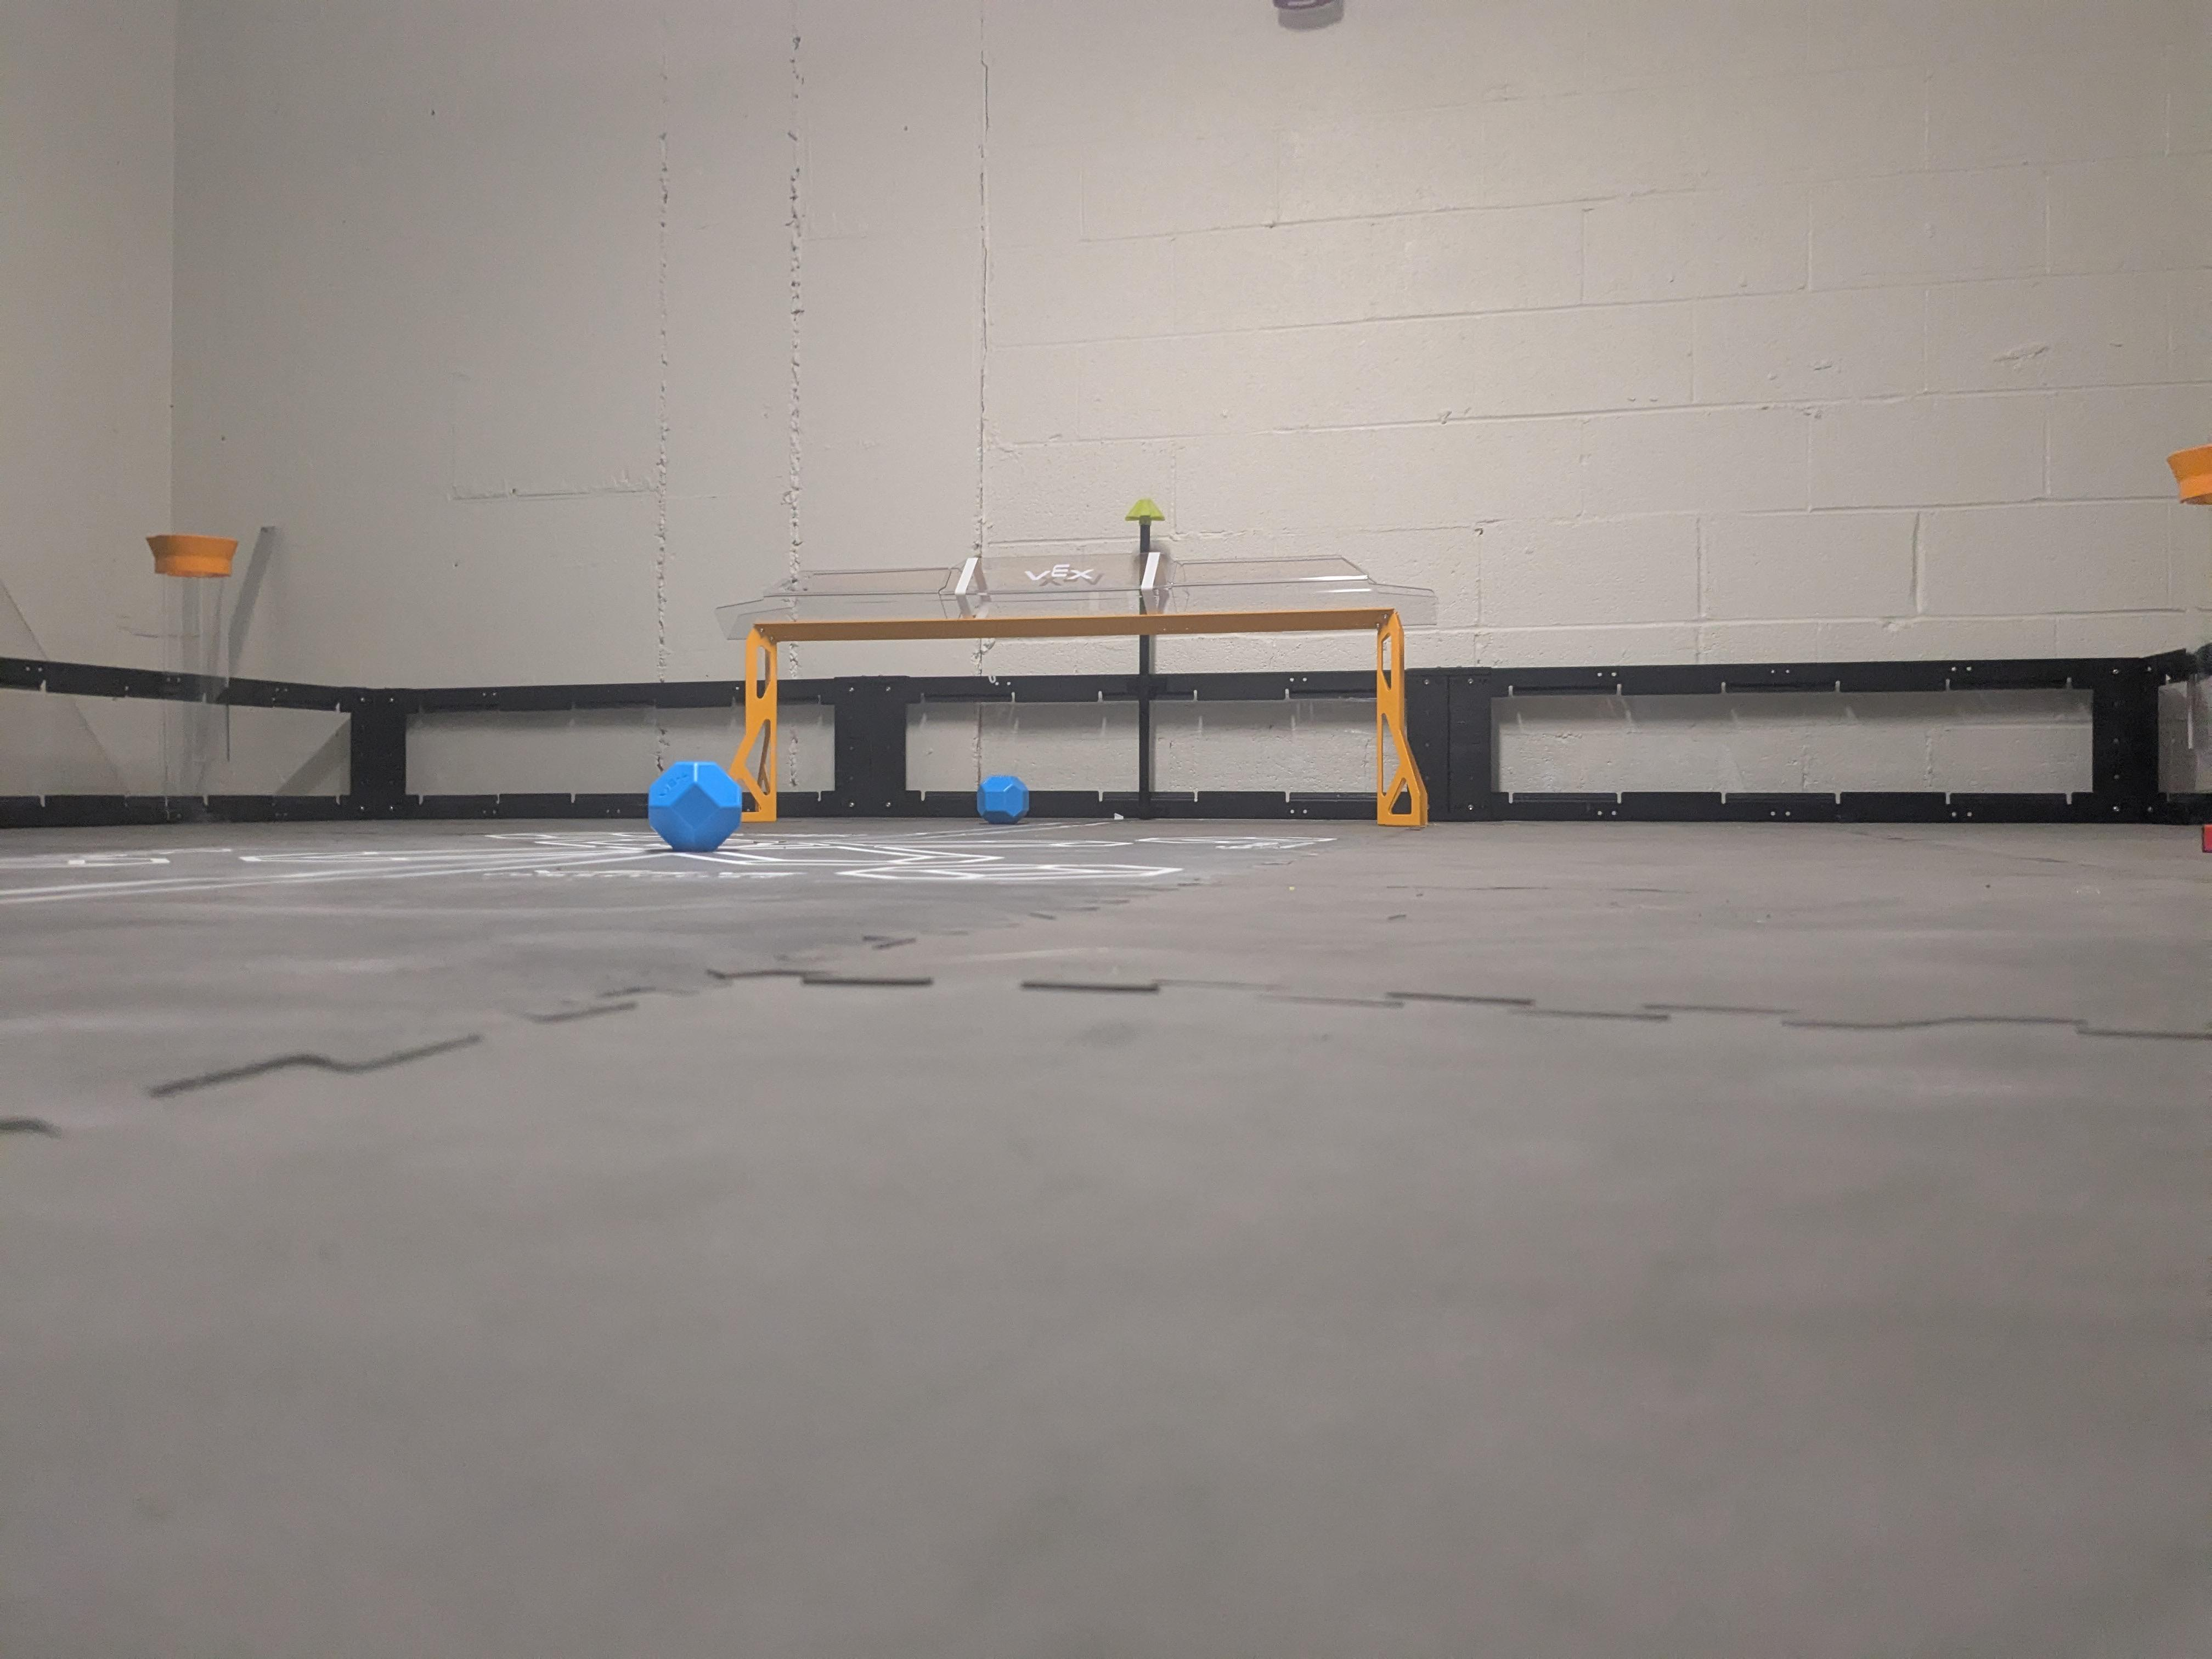Vex-Pieces-BLUE: (646, 762, 742, 847), (974, 777, 1033, 824)
